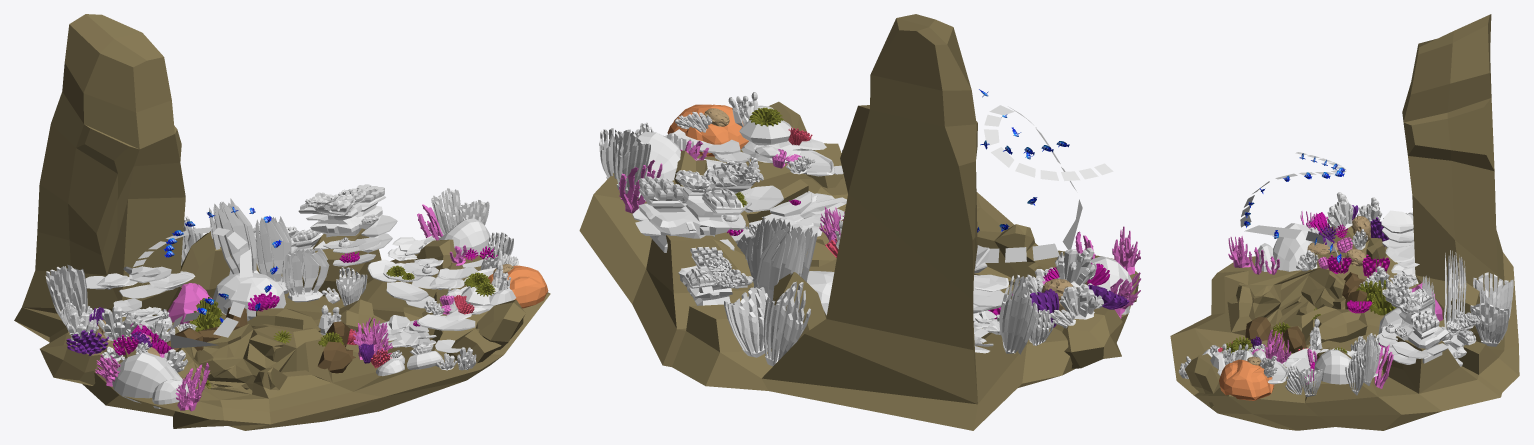
Rendered from unity_01.fbx.
3 renders of one model, left to right at view 1: azimuth 30°, elevation 25°; view 2: azimuth 150°, elevation 25°; view 3: azimuth 270°, elevation 25°, orthographic. The views are drawn at different scales.
Parts seen in each view (by area): view 1: 平面.002, 立方体.071, 平面.004, 立方体.160, 立方体.189, 立方体.188, 立方体.084, 立方体.098, 立方体.177, 立方体.101, 立方体.076, 立方体.131 (+26 smaller); view 2: 平面.002, 立方体.071, 平面.004, 立方体.151, 立方体.189, 立方体.084, 立方体.077, 立方体.076, 立方体.018, 立方体.095, 立方体.048, 立方体.096 (+19 smaller); view 3: 平面.002, 立方体.071, 立方体.096, 立方体.090, 立方体.189, 立方体.018, 平面.004, 立方体.160, 立方体.151, 立方体.077, 立方体.131, 立方体.107 (+21 smaller).
Boxes of the visible parts, <box> form: 平面.002: <box>14,14,550,430</box>; 立方体.071: <box>298,184,385,250</box>; 平面.004: <box>131,227,252,348</box>; 立方体.160: <box>112,352,182,403</box>; 立方体.189: <box>209,198,259,275</box>; 立方体.188: <box>283,248,329,302</box>; 立方体.084: <box>40,333,102,385</box>; 立方体.098: <box>255,216,291,294</box>; 立方体.177: <box>180,231,232,298</box>; 立方体.101: <box>213,272,286,321</box>; 立方体.076: <box>45,264,87,321</box>; 立方体.131: <box>475,299,525,350</box>; 平面.002: <box>579,14,1139,430</box>; 立方体.071: <box>635,161,763,252</box>; 平面.004: <box>984,105,1113,262</box>; 立方体.151: <box>678,247,753,305</box>; 立方体.189: <box>756,226,817,303</box>; 立方体.084: <box>1062,307,1122,368</box>; 立方体.077: <box>763,281,810,366</box>; 立方体.076: <box>999,275,1036,354</box>; 立方体.018: <box>724,287,769,357</box>; 立方体.095: <box>739,105,826,163</box>; 立方体.048: <box>749,191,846,237</box>; 立方体.096: <box>667,104,748,156</box>; 平面.002: <box>1170,14,1519,430</box>; 立方体.071: <box>1382,273,1448,363</box>; 立方体.096: <box>1219,359,1274,400</box>; 立方体.090: <box>1315,309,1367,342</box>; 立方体.189: <box>1444,250,1466,330</box>; 立方体.018: <box>1470,302,1509,346</box>; 平面.004: <box>1240,152,1346,262</box>; 立方体.160: <box>1273,223,1314,271</box>; 立方体.151: <box>1441,312,1479,366</box>; 立方体.077: <box>1473,272,1513,318</box>; 立方体.131: <box>1184,353,1220,407</box>; 立方体.107: <box>1314,349,1354,384</box>.
Bounding box in the file's own units: 254 × 201 × 194.
